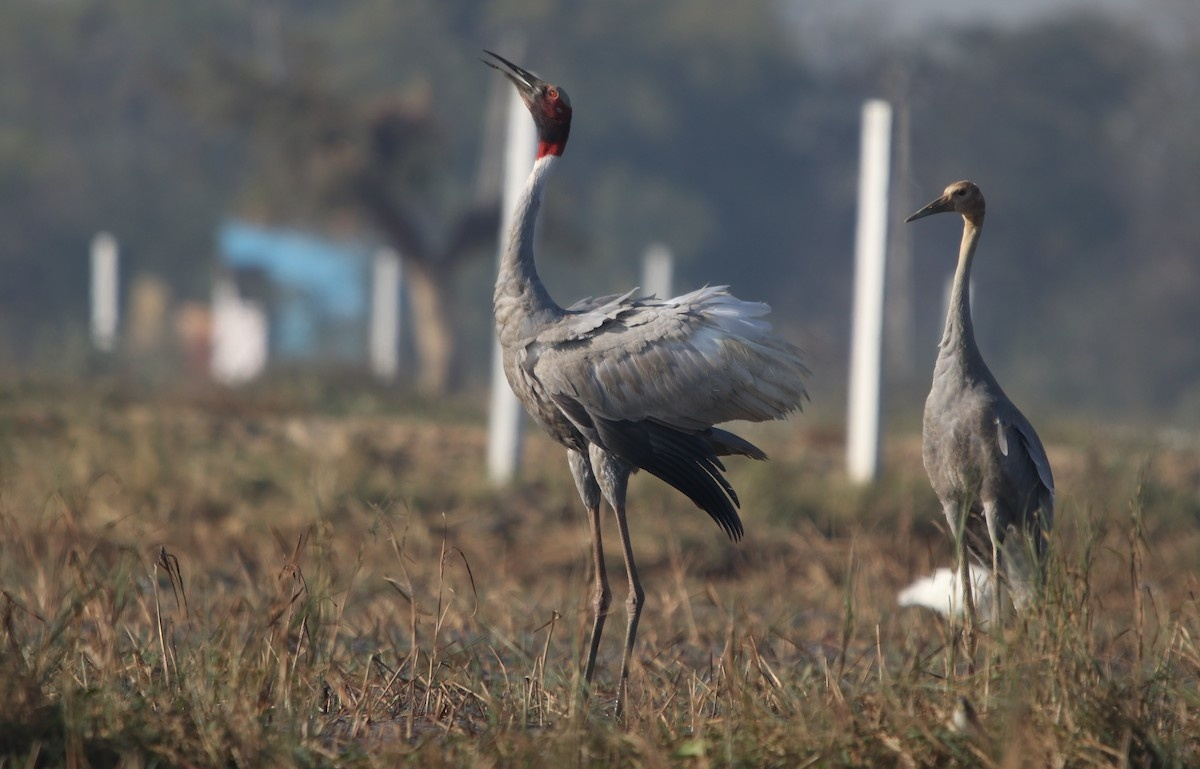crane: (472, 43, 817, 706), (888, 174, 1062, 684)
